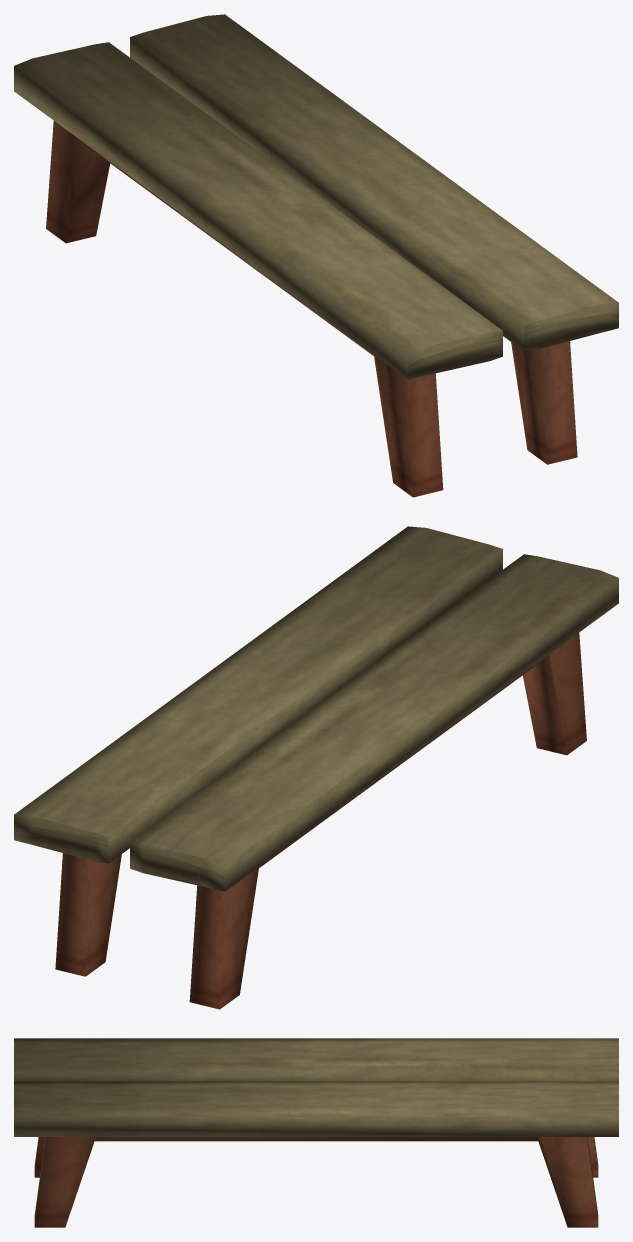
Rendered from PlaceholderBench.fbx.
The picture shows the model from 3 angles, top to bottom: view 1: azimuth 30°, elevation 25°; view 2: azimuth 150°, elevation 25°; view 3: azimuth 270°, elevation 25°; orthographic projection. The views are drawn at different scales.
Visible parts, largest first — view 1: Cube; view 2: Cube; view 3: Cube.
Part boxes in pixels (left/top/right/bottom): Cube: left=14, top=14, right=618, bottom=497; Cube: left=14, top=526, right=618, bottom=1009; Cube: left=14, top=1038, right=618, bottom=1227.
Size of the model in its own units: 61.87 by 45 by 200.
